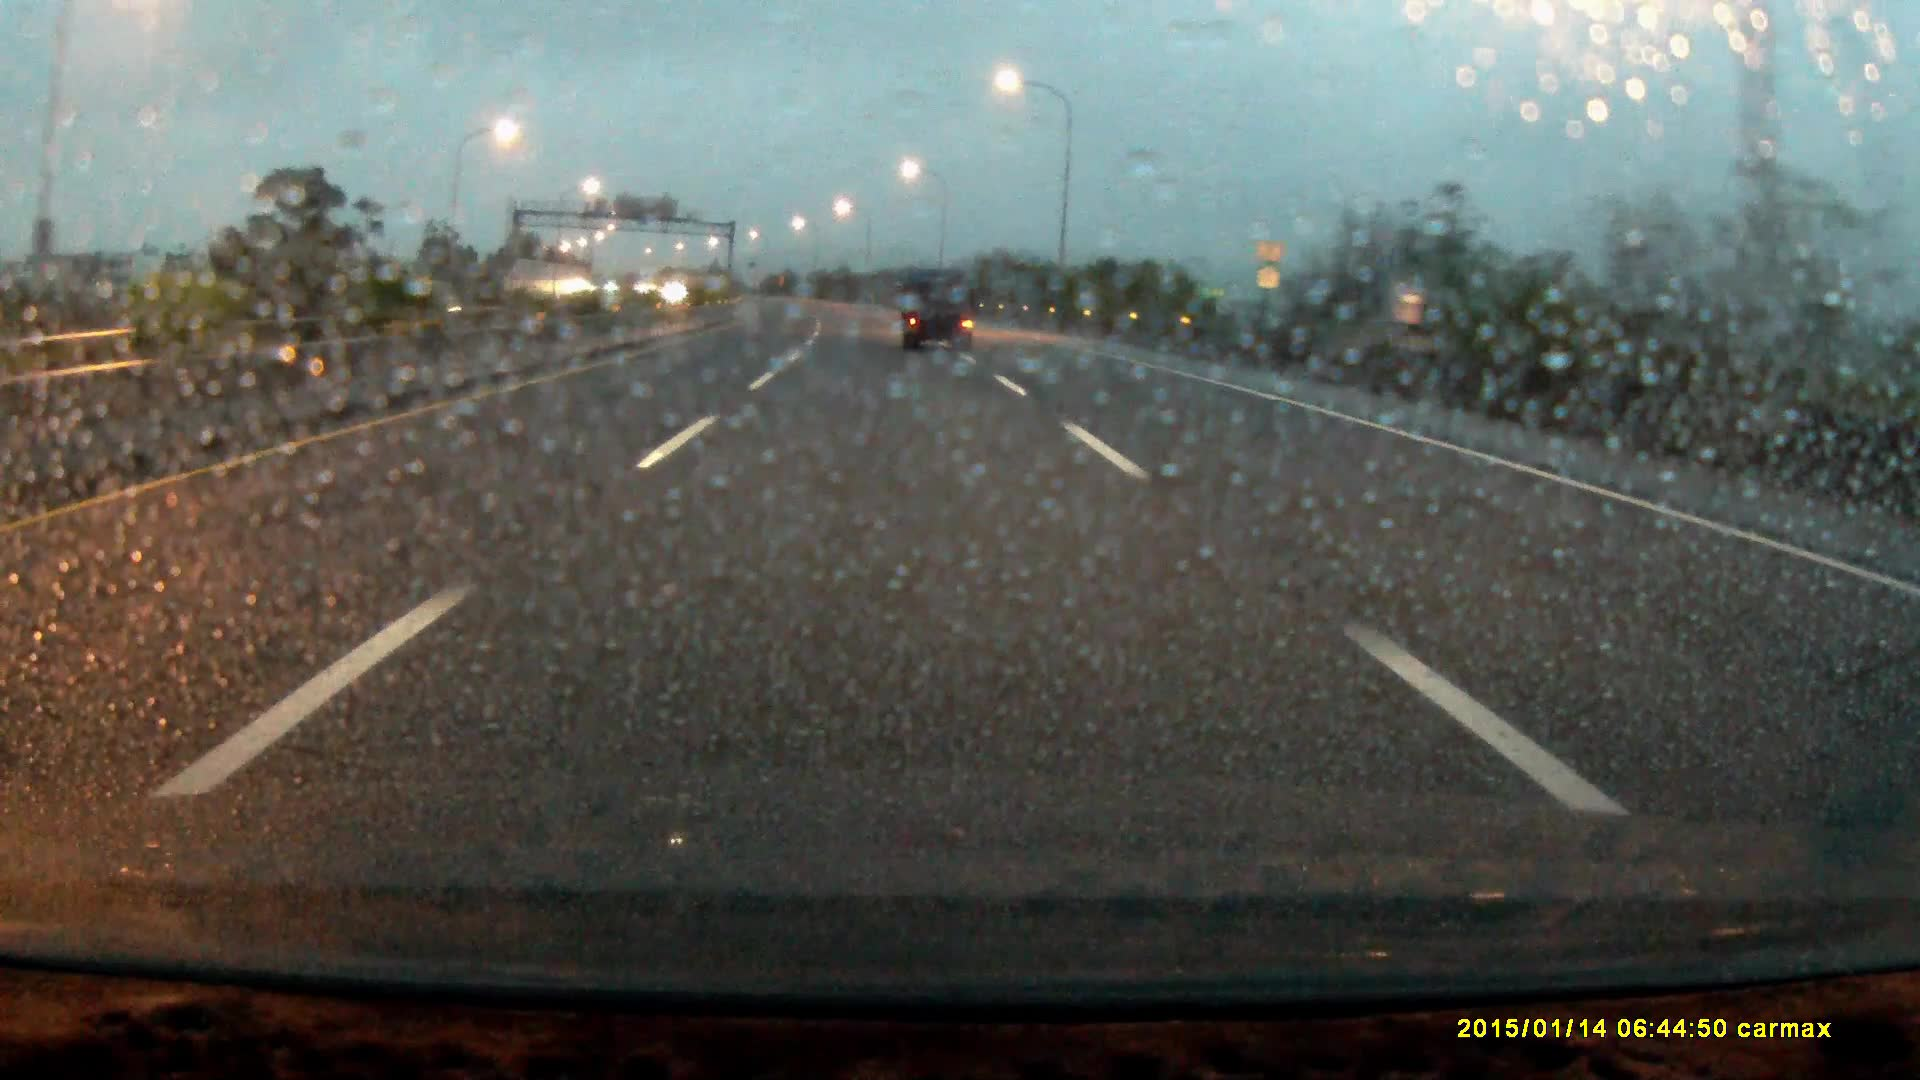vehicle: (901, 272, 976, 355)
